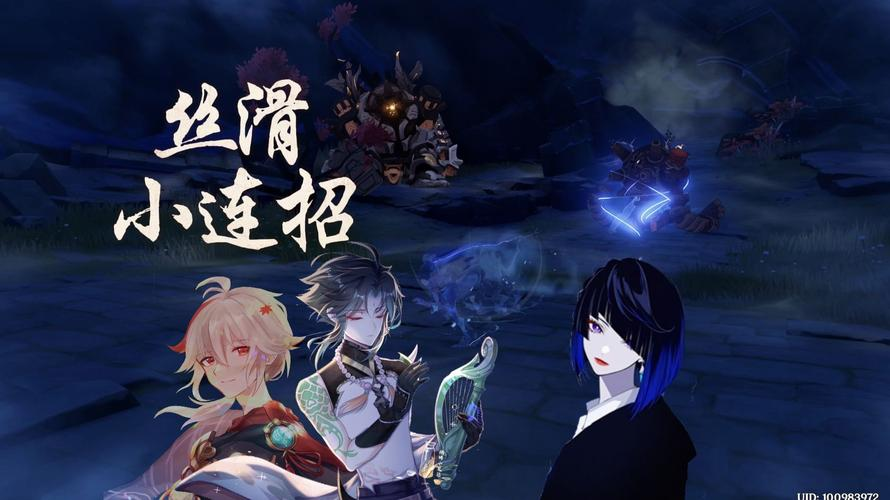夜兰: (545, 257, 700, 500)
